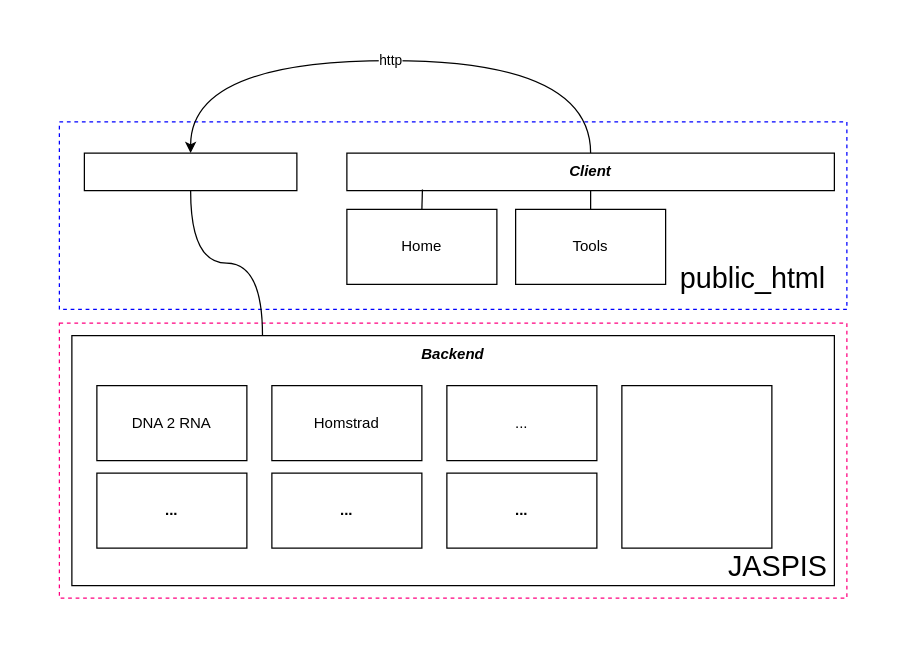
This 906x658 diagram has some shape labels left out. Here are the shapes that lost their labels. From the top down, the box of each, then its label:
(83, 152, 297, 191): API Controller
(621, 384, 772, 548): DB
